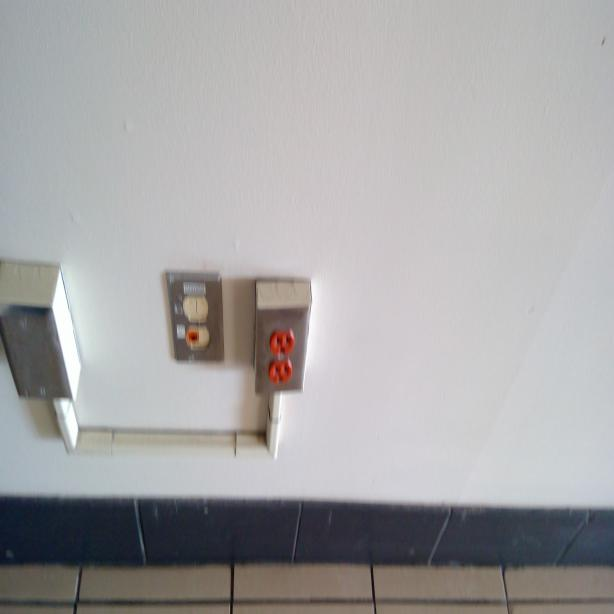typeb: (269, 325, 293, 353), (270, 361, 292, 383)
